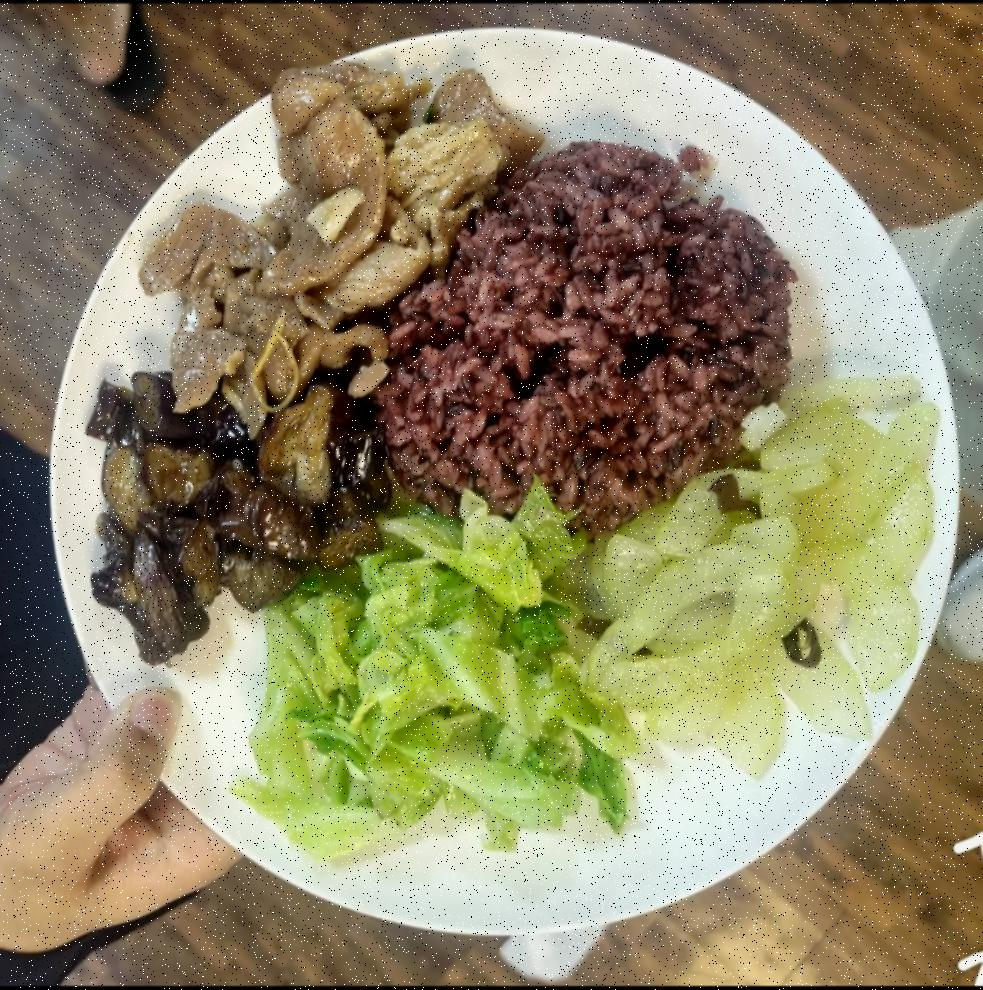garlic white meat: (137, 63, 526, 408)
plate: (35, 28, 964, 951)
purple rice: (377, 136, 798, 528)
side dish: (589, 372, 948, 770), (237, 513, 635, 868), (77, 390, 375, 660)
